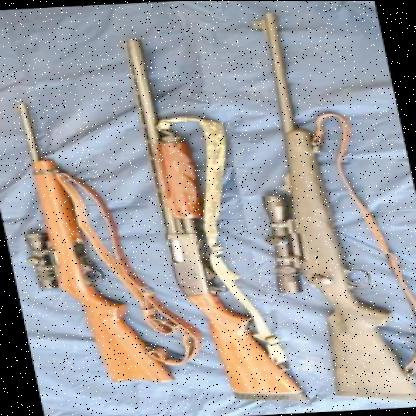rifle: (216, 10, 416, 408), (120, 28, 299, 412), (0, 96, 178, 386)
